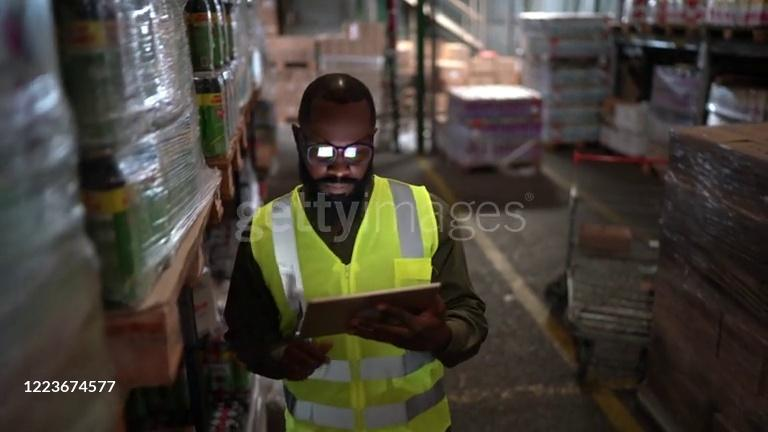person: (223, 73, 490, 432)
